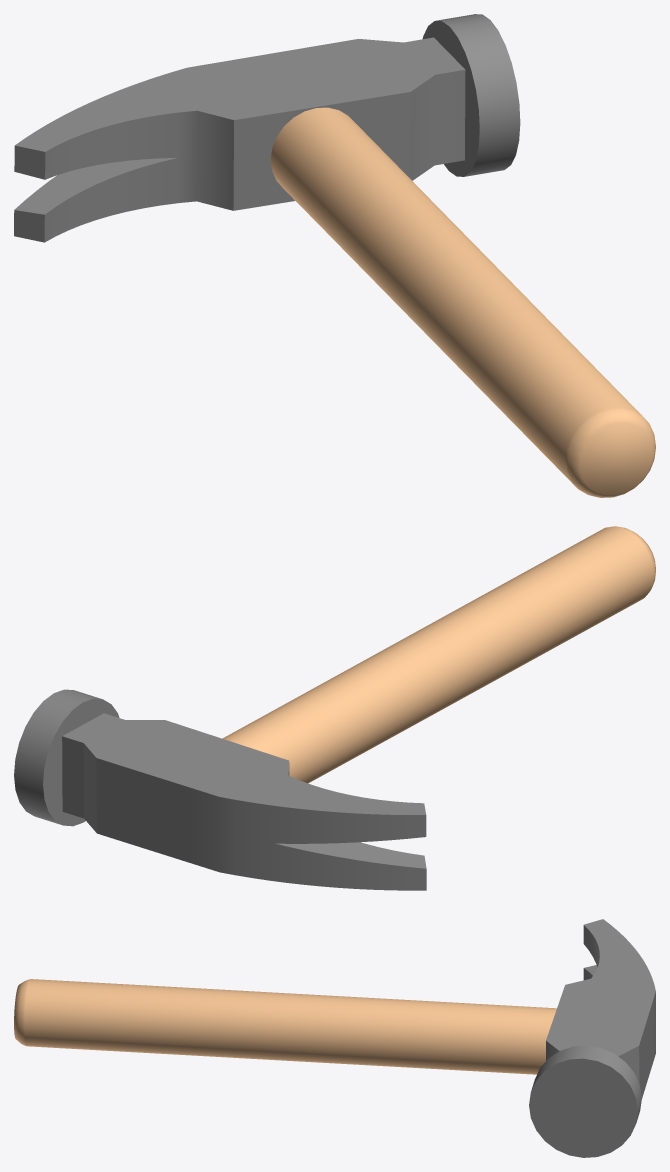
Rendered from hammer_03_origin.dae.
The picture shows the model from 3 angles, top to bottom: view 1: azimuth 30°, elevation 25°; view 2: azimuth 150°, elevation 25°; view 3: azimuth 270°, elevation 25°; orthographic projection. The views are drawn at different scales.
Visible parts, largest first — view 1: Component_2 (×2), Component_3; view 2: Component_2 (×2), Component_3; view 3: Component_3, Component_2 (×2).
Part boxes in pixels (x1,y1,x2,y2): Component_2 (×2): (14, 14, 520, 242); Component_3: (270, 107, 655, 497); Component_2 (×2): (14, 689, 426, 890); Component_3: (222, 526, 655, 783); Component_3: (14, 979, 556, 1074); Component_2 (×2): (529, 919, 655, 1157).
Bounding box in the file's own units: 7.3 × 12.48 × 2.14.
